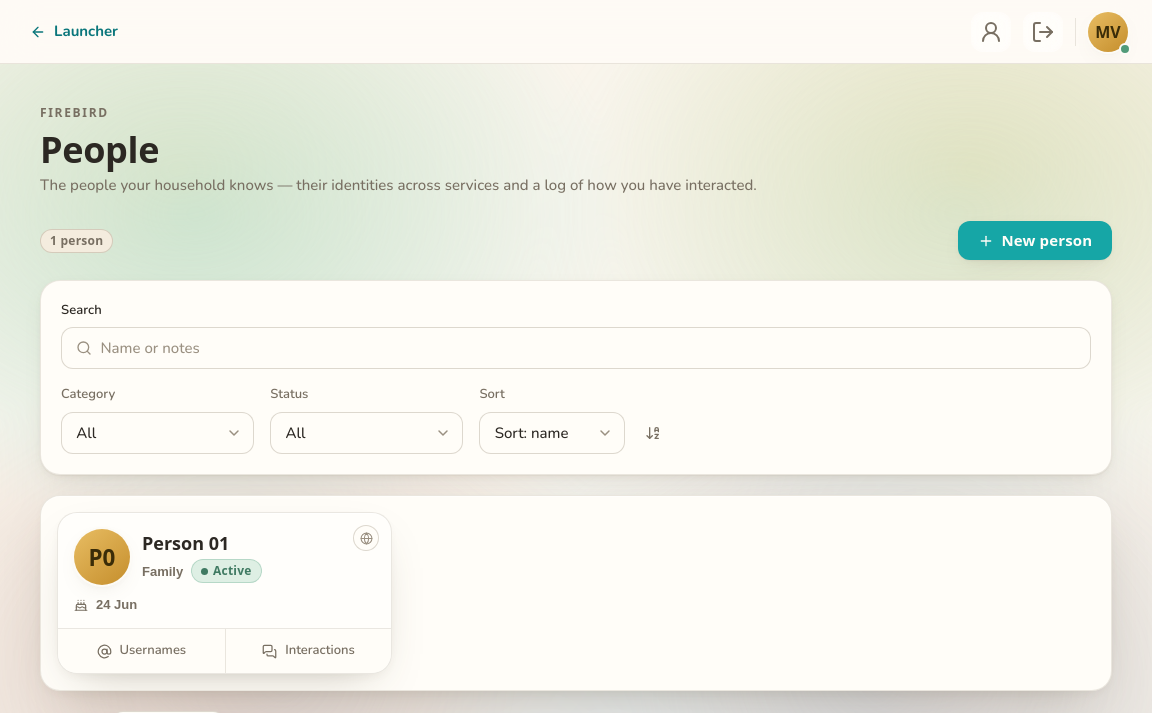
Test case: Firebird gallery › opens the create dialog from the new person action
Expected: the text "Person 01" is shown, [142,531,229,555]
Click the button "New person" at (1035, 241), box [958,221,1112,260]
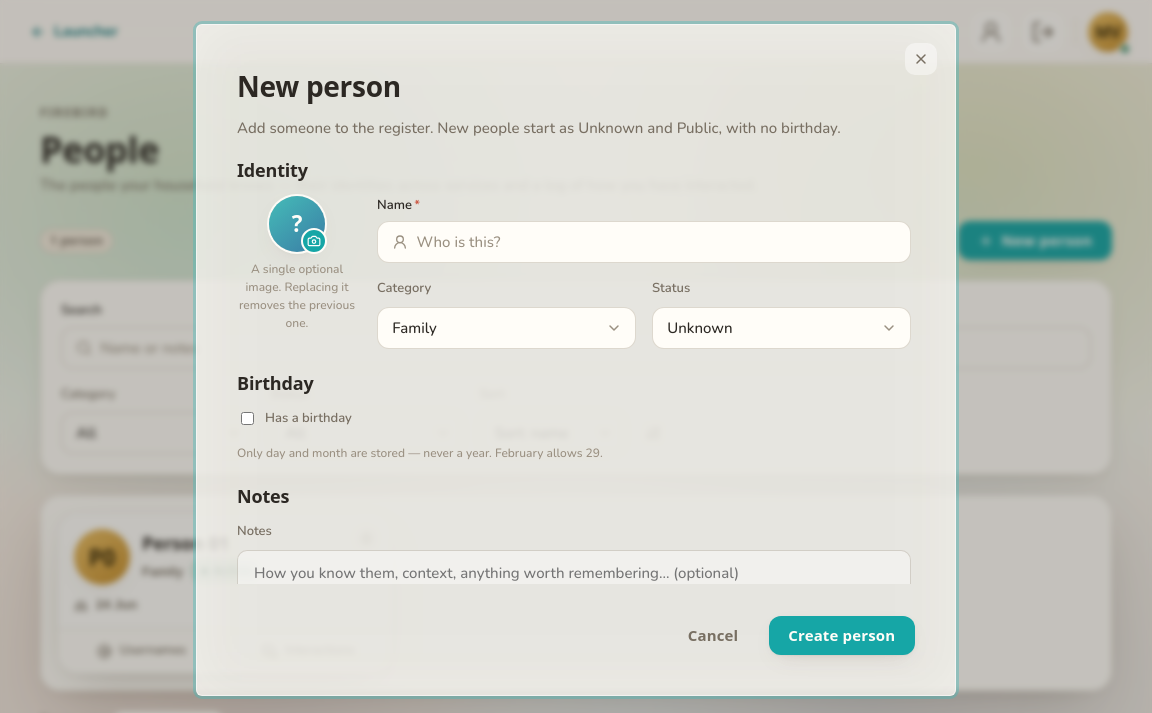
Result: the field labelled "Name" is shown at [416,223,896,261]
Result: the text "Create person" is shown at [788,628,895,643]
